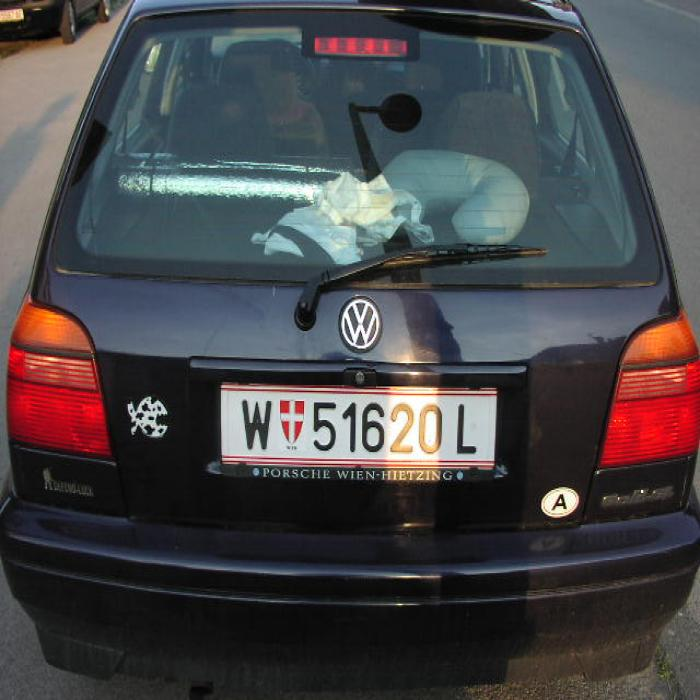number_plate: (219, 388, 493, 462)
